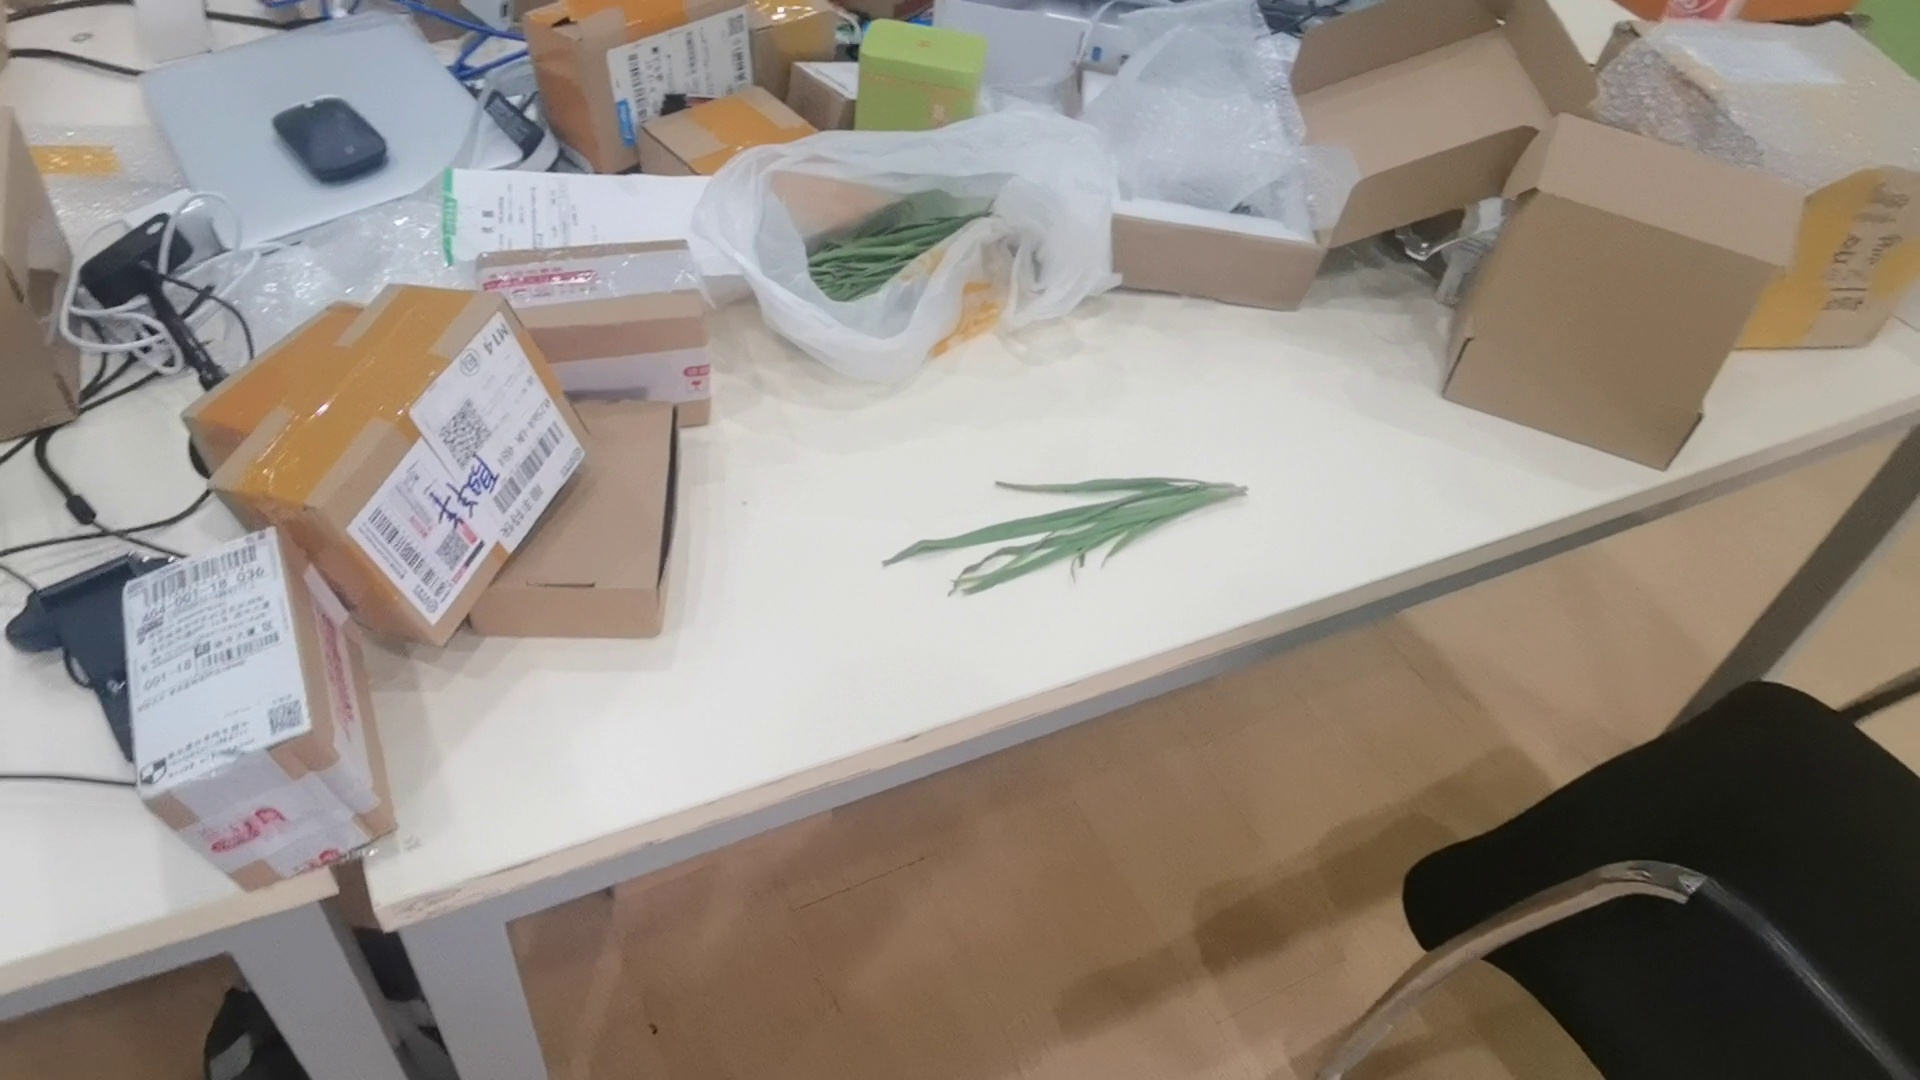chives: (847, 467, 1266, 605)
